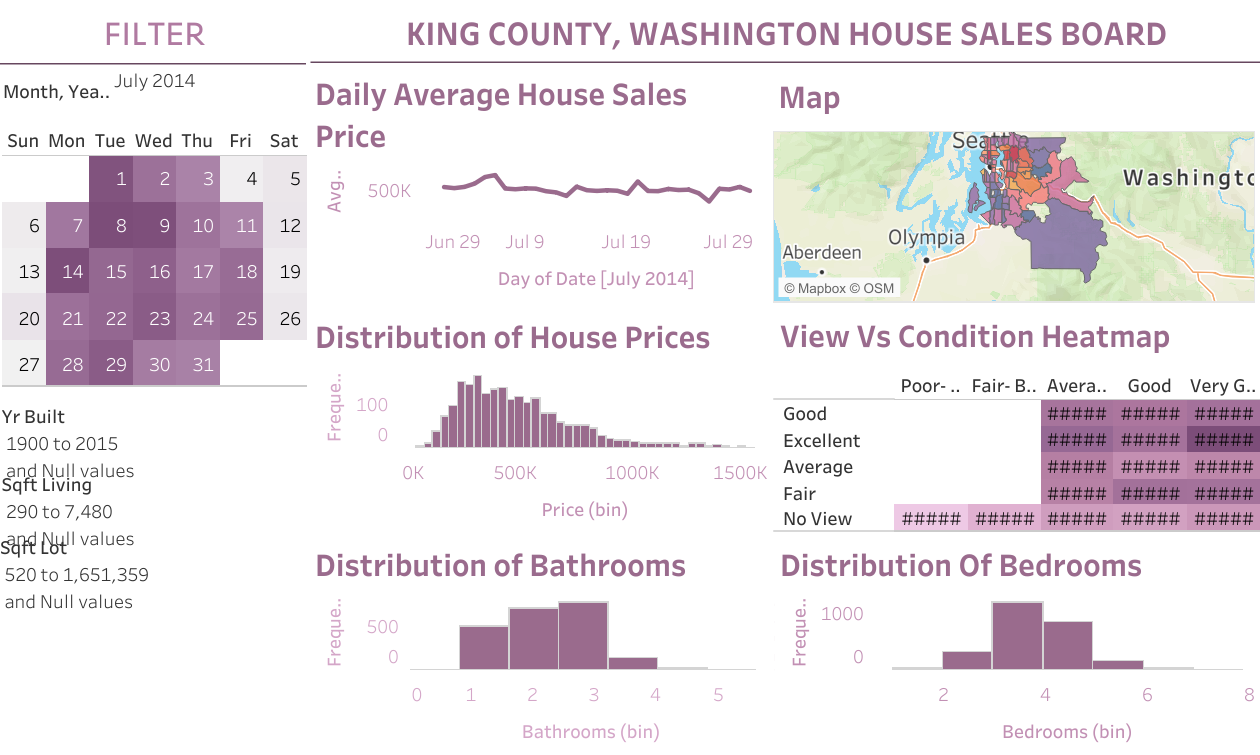

Layout of this report page (visuals, bound fields, positions):
{"tool":"tableau","page":{"name":"King County House Sales","canvas":[1000,1000],"units":"permille","ordinal":0},"visuals":[{"type":"text","box":[1.2,1.2,242.8,79.5]},{"type":"text","box":[242.5,2.4,762.5,78.2]},{"type":"blank","box":[245.6,81.9,753.1,1.2]},{"type":"blank","box":[0,83.1,242.8,1.2]},{"type":"worksheet","title":"Line Chart","mark":"Automatic","rows":["price"],"cols":["date"],"box":[245,84,365.3,315.7]},{"type":"worksheet","title":"Map","mark":"Automatic","box":[612.2,86.4,382.8,314.5]},{"type":"filter","title":"Calender","param":"[federated.17b38ld0tw98n318ajes41tktpct].[my:date:ok]","box":[1.9,88,241,59.9]},{"type":"worksheet","title":"Calender","mark":"Square","rows":["date"],"cols":["date"],"box":[1.2,165,242.8,347.2]},{"type":"worksheet","title":"Heatmap","mark":"Square","rows":["view"],"cols":["condition"],"box":[613.5,402.2,386.5,302.5]},{"type":"worksheet","title":"Histogram House Price","mark":"Automatic","rows":["price"],"cols":["Price (bin)"],"box":[244.4,404.6,367.2,300.1]},{"type":"filter","title":"Calender","param":"[federated.17b38ld0tw98n318ajes41tktpct].[none:yr_built:qk]","box":[1.2,530.6,244.4,81.9]},{"type":"filter","title":"Calender","param":"[federated.17b38ld0tw98n318ajes41tktpct].[none:sqft_living:qk]","box":[0.6,618.6,243.8,83.1]},{"type":"filter","title":"Calender","param":"[federated.17b38ld0tw98n318ajes41tktpct].[none:sqft_lot:qk]","box":[0,701.7,245.6,83.1]},{"type":"worksheet","title":"Histogram Bedroom","mark":"Automatic","rows":["bedrooms"],"cols":["Bedrooms (bin)"],"box":[614.1,705.9,385.3,291.7]},{"type":"worksheet","title":"Histogram Bathrooms","mark":"Automatic","rows":["bathrooms"],"cols":["Bathrooms (bin)"],"box":[244.7,706.6,367.4,290.9]}]}

Visuals, with their boxes on the dashboard's canvas, which has no fixed pixel size, in thousandths of its width and height (x1, y1, x2, y2). These are canvas units, not pixel positions in the 1260x755 screenshot, which may show the page scaled, cropped or inside an application window:
text: 1:1:244:81
text: 242:2:1005:81
blank: 246:82:999:83
blank: 0:83:243:84
"Line Chart" worksheet: 245:84:610:400
"Map" worksheet: 612:86:995:401
"Calender" filter: 2:88:243:148
"Calender" worksheet (Square marks): 1:165:244:512
"Heatmap" worksheet (Square marks): 614:402:1000:705
"Histogram House Price" worksheet: 244:405:612:705
"Calender" filter: 1:531:246:612
"Calender" filter: 1:619:244:702
"Calender" filter: 0:702:246:785
"Histogram Bedroom" worksheet: 614:706:999:998
"Histogram Bathrooms" worksheet: 245:707:612:998
